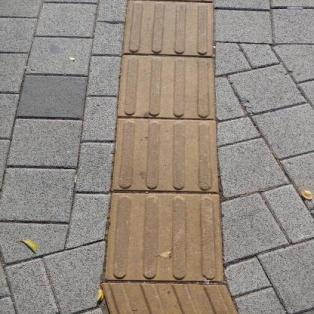Podoctatil: (96, 0, 244, 313)
